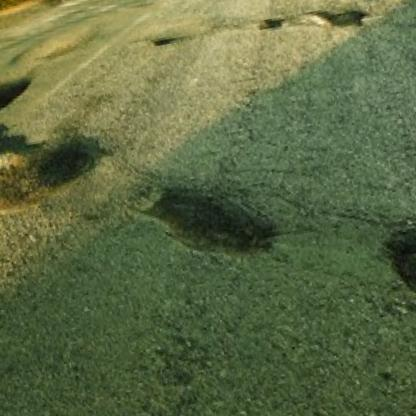pothole: (128, 164, 277, 273), (13, 128, 108, 212), (378, 210, 416, 326), (0, 111, 37, 184), (0, 73, 37, 137), (303, 0, 367, 35), (0, 163, 28, 234), (257, 14, 287, 32), (150, 36, 176, 49)
